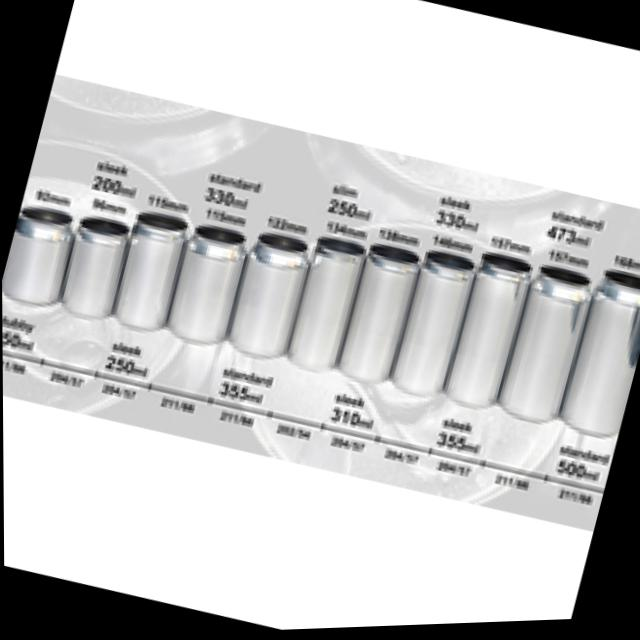aluminum_soda_cans: (498, 260, 602, 424), (392, 247, 482, 405), (559, 266, 640, 440), (448, 249, 532, 406), (339, 234, 423, 385), (225, 226, 316, 364), (162, 221, 254, 352), (111, 205, 194, 340), (289, 234, 368, 371), (1, 192, 83, 312)
